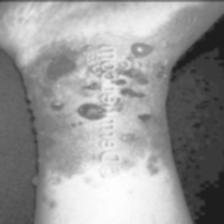Toxin: (42, 43, 98, 122), (119, 38, 164, 128), (119, 130, 142, 146)
